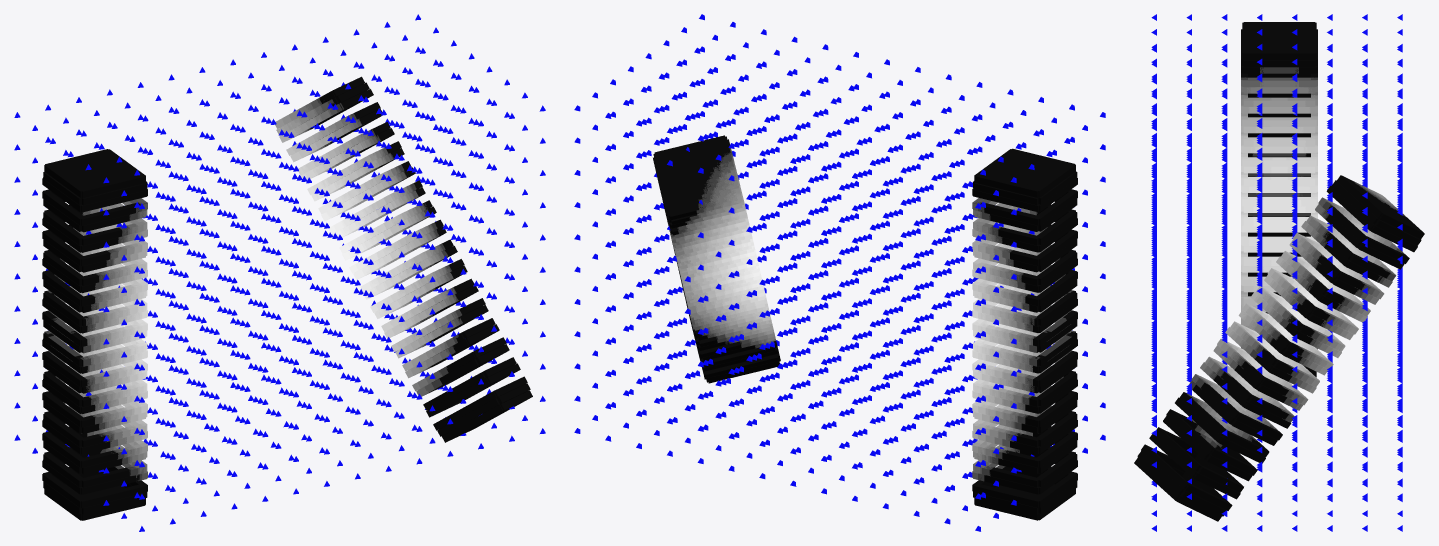
Rendered from CubeGalaxies.glb.
3 views of the same model, side by side, from view 1: azimuth 30°, elevation 25°; view 2: azimuth 150°, elevation 25°; view 3: azimuth 270°, elevation 25° (orthographic).
Size of the model in its own units: 6.85 by 5.36 by 4.14.
